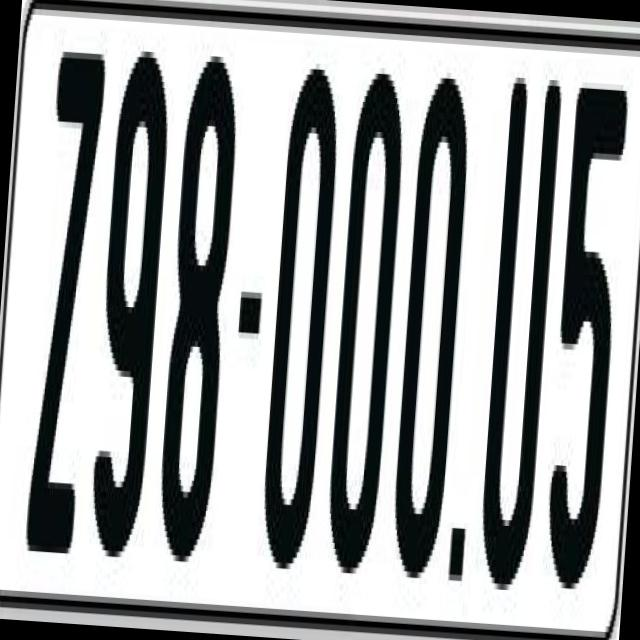0: (252, 56, 344, 594), (385, 59, 476, 596), (322, 66, 409, 580)
5: (540, 87, 632, 619)
8: (153, 48, 248, 575)
9: (84, 43, 177, 576)
U: (471, 65, 562, 608)
Z: (21, 39, 107, 565)
